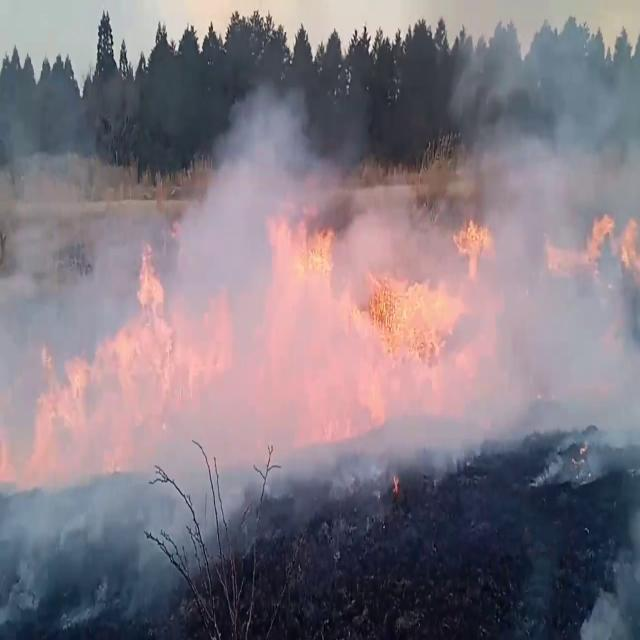Fire: (266, 196, 476, 410), (50, 234, 211, 454)
Smoke: (4, 42, 640, 474)
